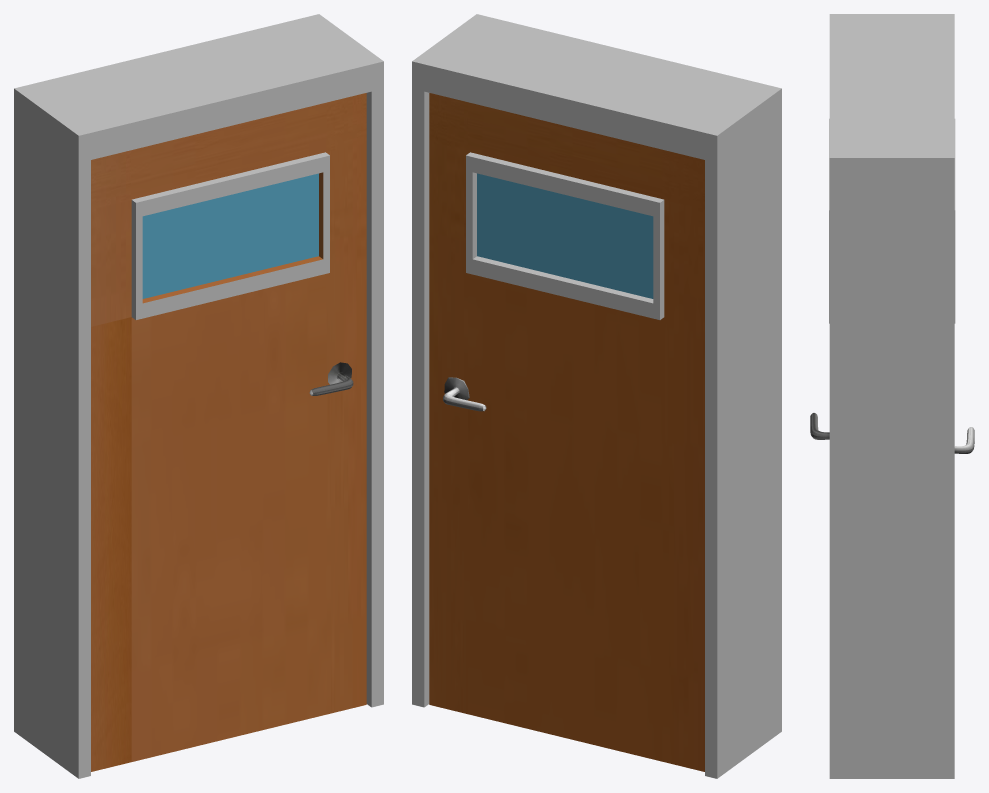
Rendered from porta.obj.
The picture shows the model from 3 angles, left to right: view 1: azimuth 30°, elevation 25°; view 2: azimuth 150°, elevation 25°; view 3: azimuth 270°, elevation 25°; orthographic projection. The views are drawn at different scales.
Visible parts, largest first — view 1: porta, batente, macaneta.001; view 2: porta, batente, macaneta; view 3: batente, porta.
Boxes of the visible parts, x1=… form: porta: x1=91, y1=93, x2=366, y2=771; batente: x1=14, y1=14, x2=383, y2=778; macaneta.001: x1=309, y1=362, x2=353, y2=395; porta: x1=429, y1=93, x2=704, y2=771; batente: x1=412, y1=14, x2=781, y2=778; macaneta: x1=443, y1=377, x2=486, y2=411; batente: x1=829, y1=14, x2=954, y2=778; porta: x1=829, y1=118, x2=955, y2=323.
Bounding box in the file's own units: 2.18 × 4.38 × 1.05.
